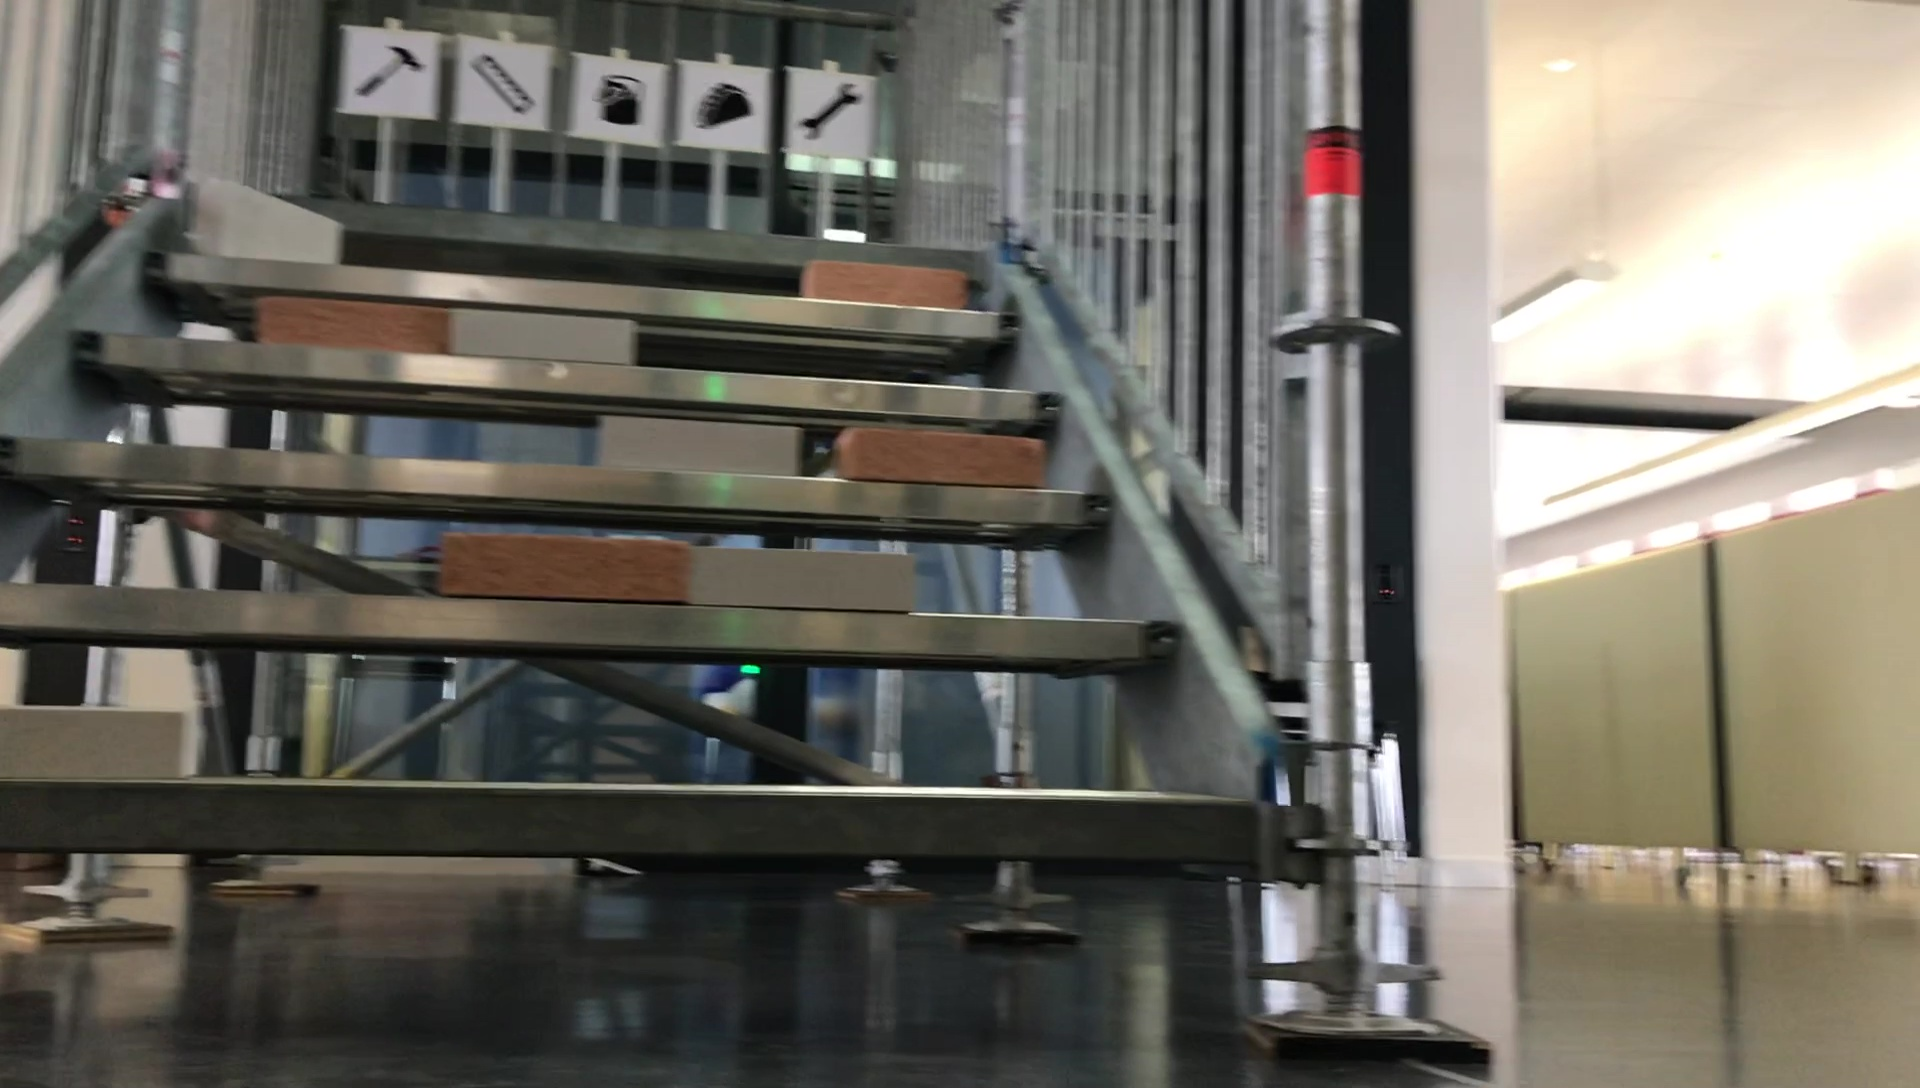brick: (0, 696, 193, 793), (435, 535, 680, 597), (851, 425, 1058, 485), (682, 553, 934, 601), (793, 256, 992, 311), (595, 414, 798, 468), (447, 310, 636, 364), (179, 202, 356, 243), (248, 309, 446, 342)
bucket: (595, 73, 653, 127)
edge: (0, 588, 1176, 655), (16, 460, 1093, 525), (0, 801, 1278, 855), (129, 256, 971, 332), (73, 352, 1073, 389), (236, 206, 971, 248)
hammer: (357, 40, 423, 102)
ruler: (467, 51, 541, 117)
stairs: (0, 0, 1381, 1038)
steps: (0, 193, 1317, 872)
taco: (696, 80, 760, 133)
wrench: (796, 80, 858, 136)
